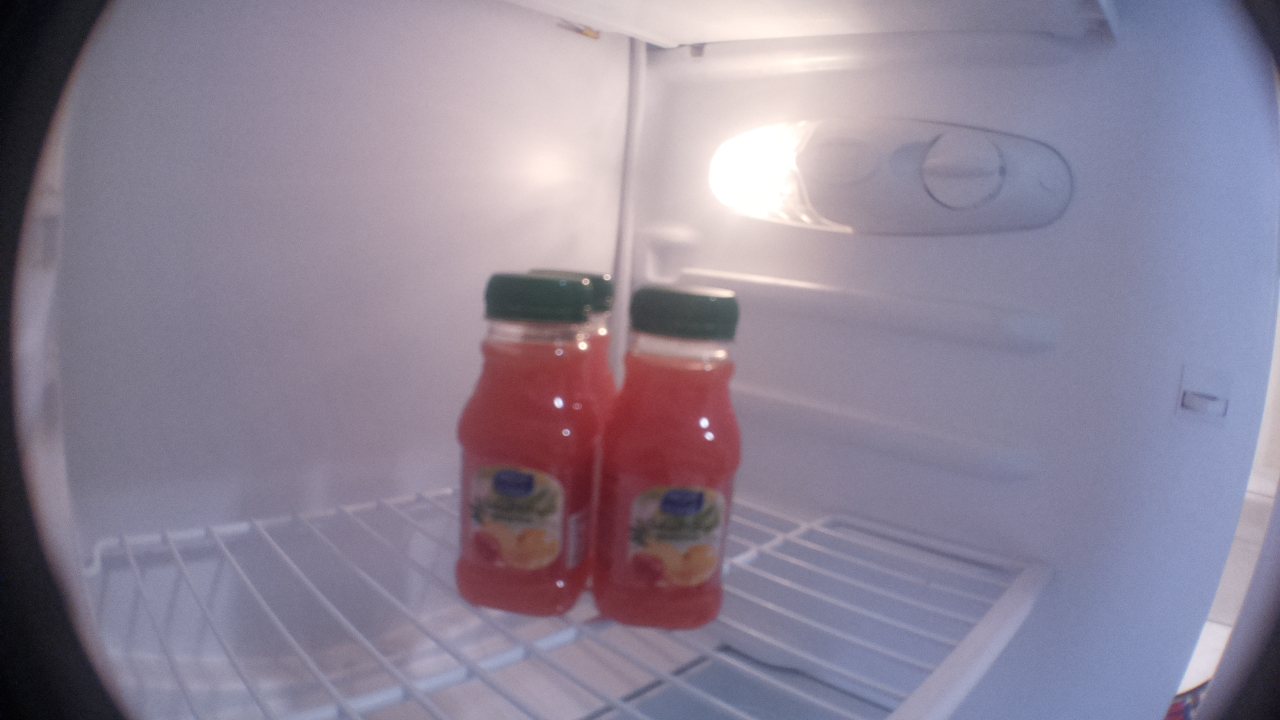juice: (594, 284, 747, 634), (451, 269, 601, 617), (526, 262, 624, 343)
